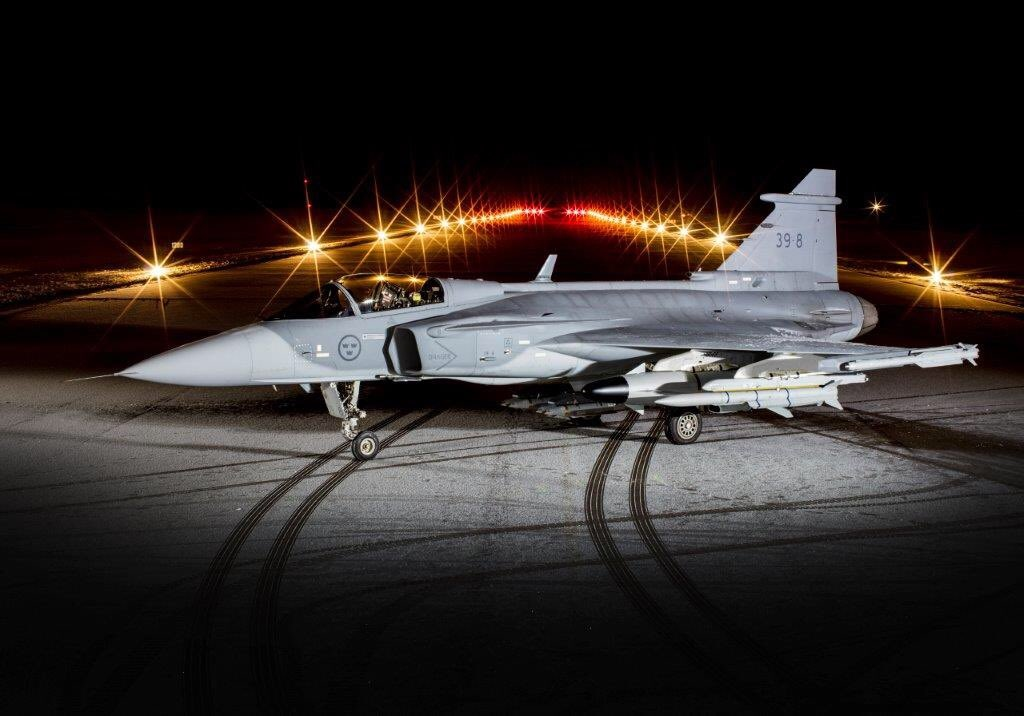JAS39: (58, 168, 979, 461)
